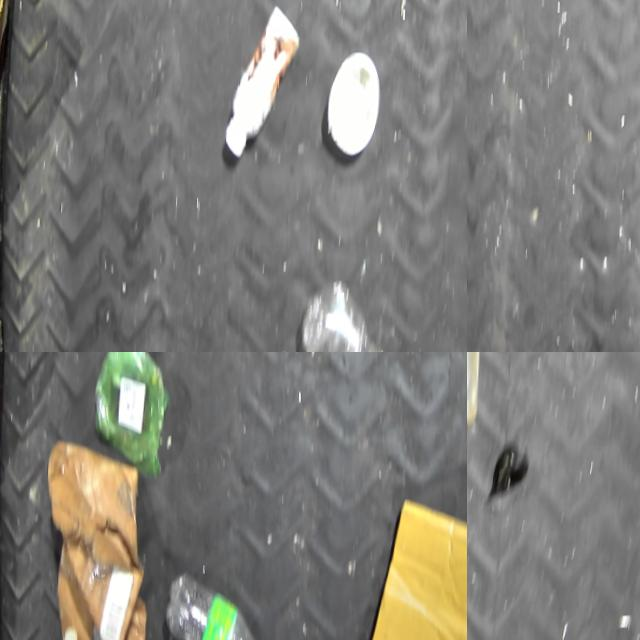can: (0, 313, 13, 352)
plastic_bottle: (162, 564, 277, 640), (56, 623, 95, 640)
